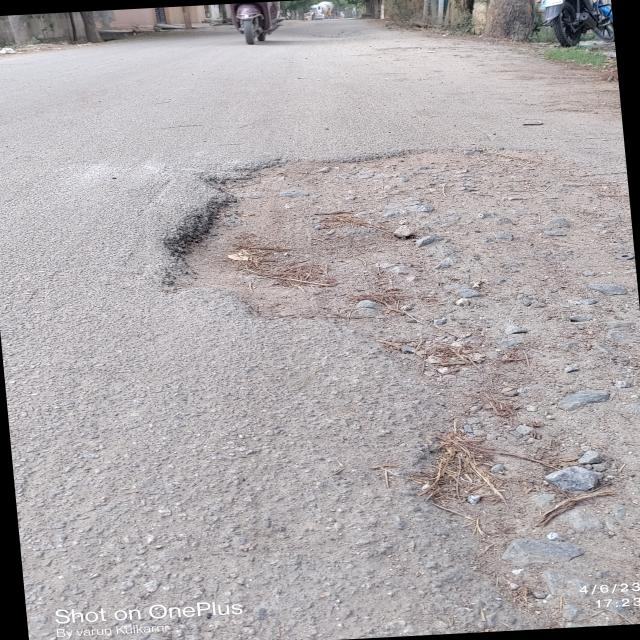potholes: (144, 148, 640, 360)
